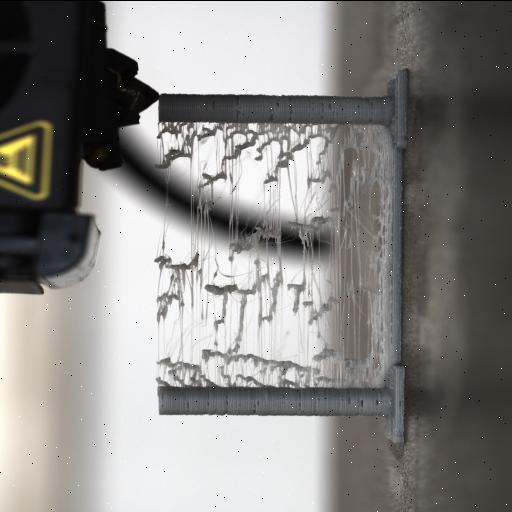stringing: (150, 118, 392, 388)
